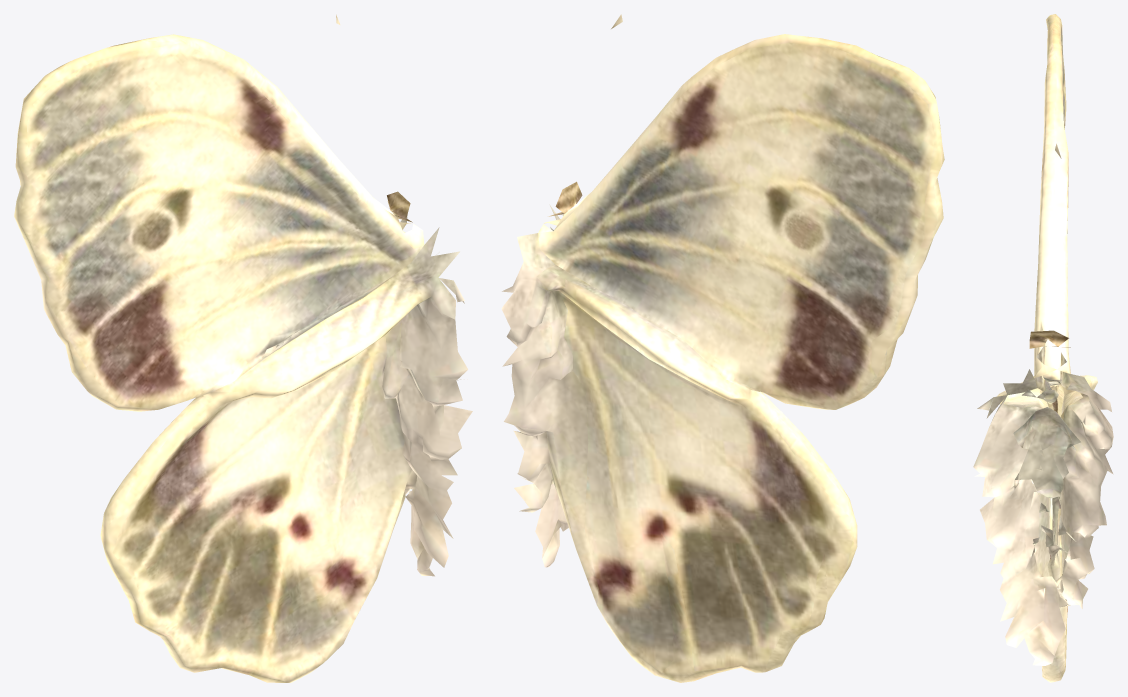
The model's file is lintmoth-left.glb.
3 renders of one model, left to right at view 1: azimuth 30°, elevation 25°; view 2: azimuth 150°, elevation 25°; view 3: azimuth 270°, elevation 25°, orthographic. The views are drawn at different scales.
Parts seen in each view (by area): view 1: Mesh_0.001; view 2: Mesh_0.001; view 3: Mesh_0.001.
Part boxes in pixels (x1=…): Mesh_0.001: x1=14, y1=14, x2=472, y2=682; Mesh_0.001: x1=501, y1=14, x2=944, y2=682; Mesh_0.001: x1=973, y1=14, x2=1113, y2=682.
Size of the model in its own units: 0.672 by 1.06 by 0.2328.
1 material, 1 textured.
